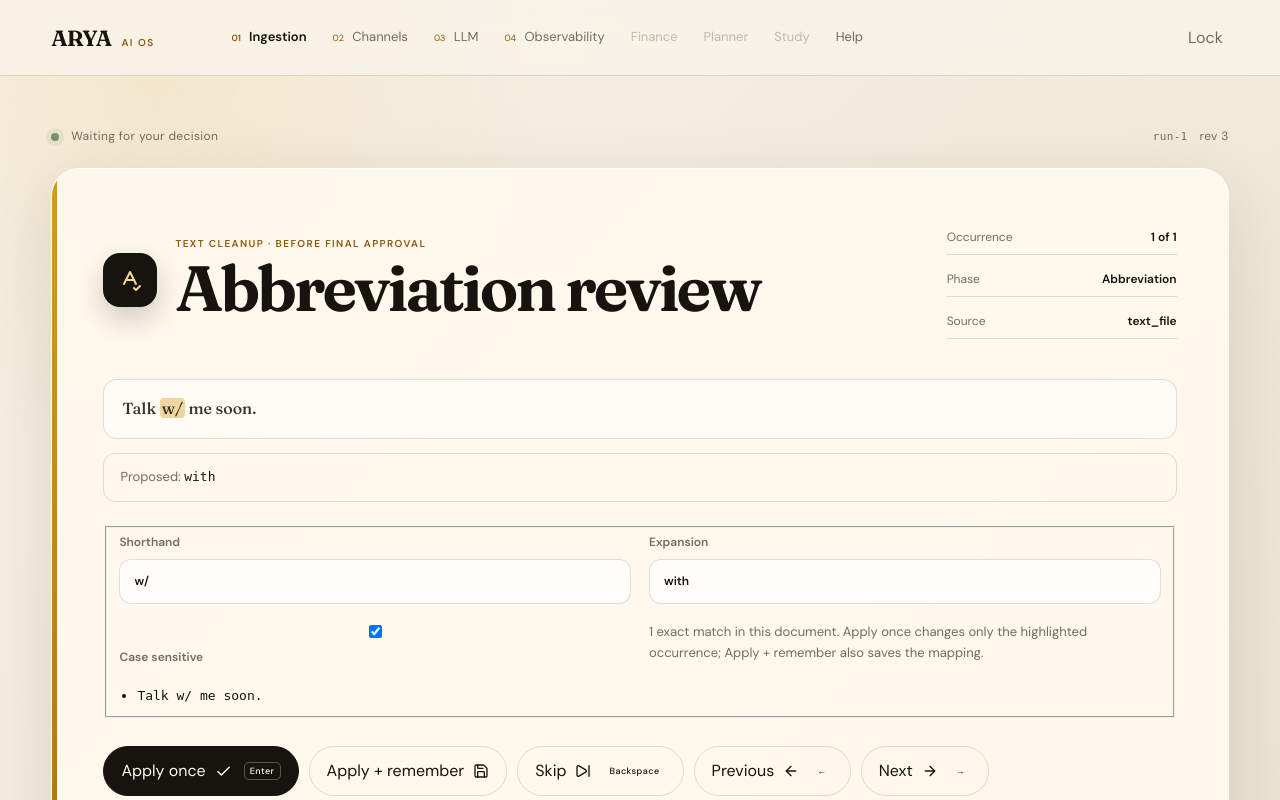
Test case: cleanup adapter › blocks a second submit while an earlier cleanup decision's confirmation is still pending
This screenshot has width=1280, height=800.
Click the button "Apply once Enter" at (201, 771), box left=103, top=746, right=298, bottom=796
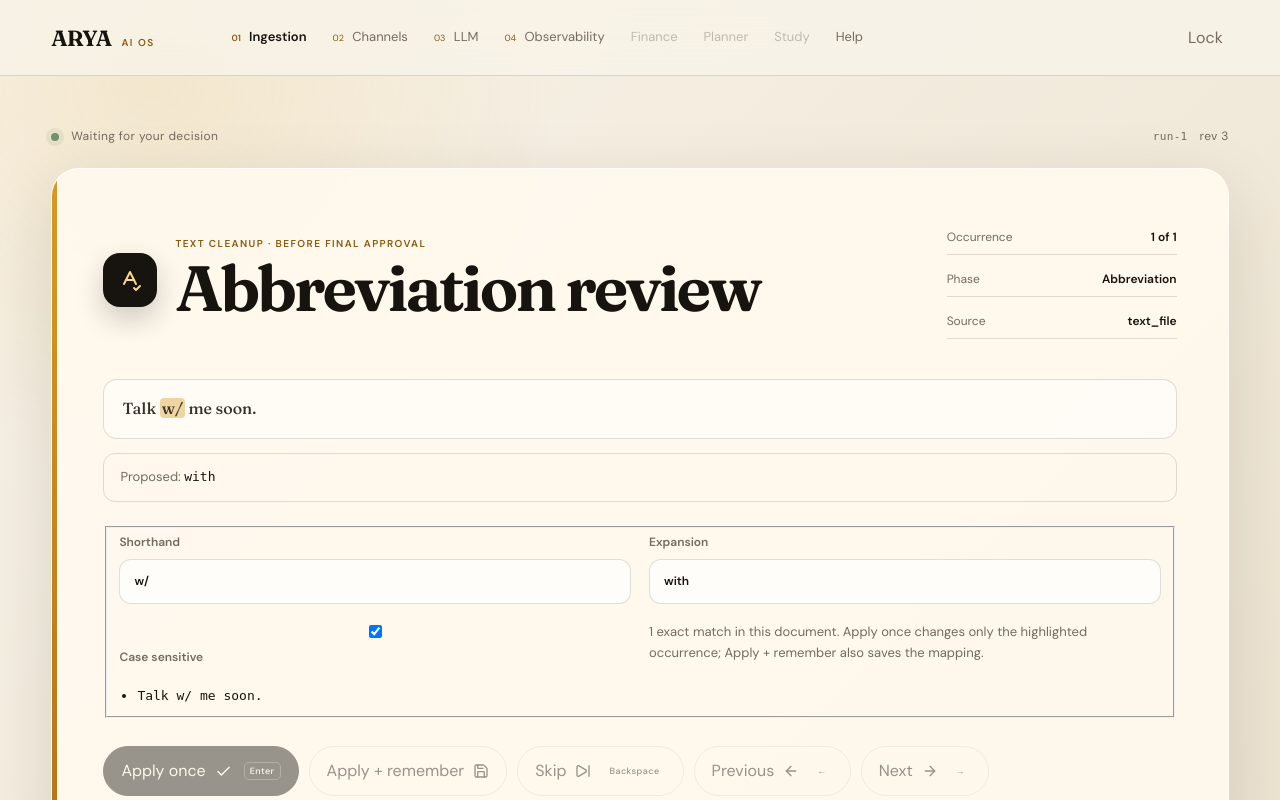
Check: the button "Apply once Enter" is disabled, box left=103, top=746, right=298, bottom=796
